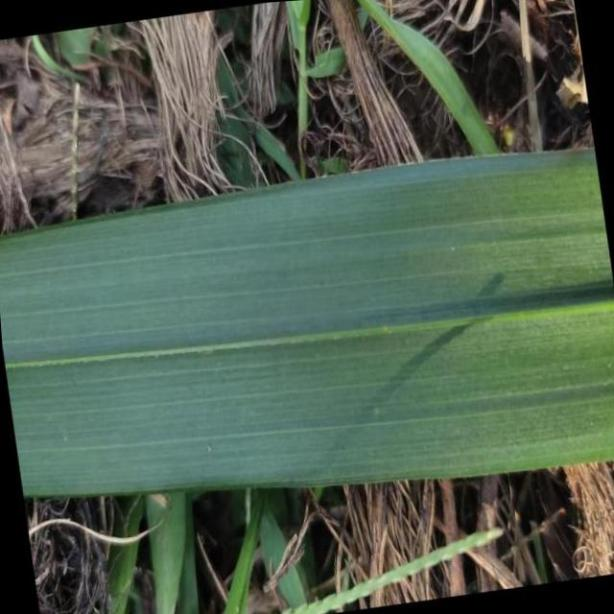Healthy: (3, 150, 614, 495)
